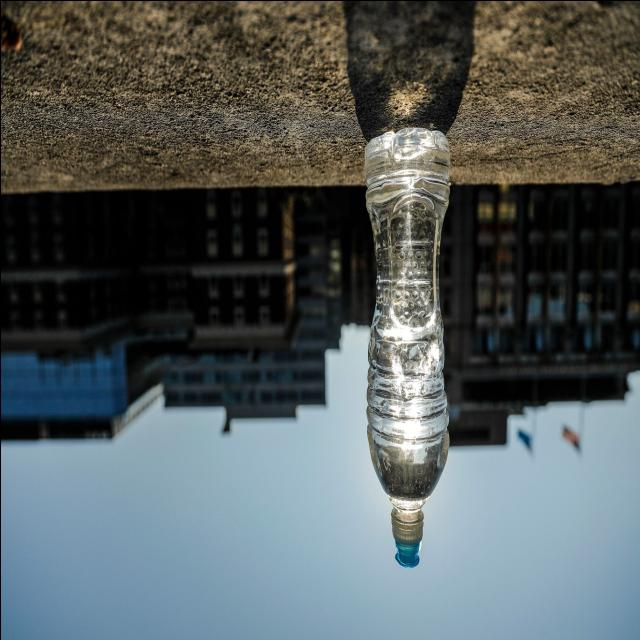bottle: (364, 126, 448, 567)
